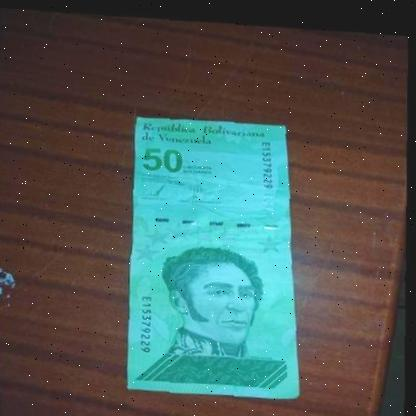fifty-front-vef: (120, 107, 308, 399)
